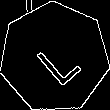L_NW: (26, 28, 83, 87)
